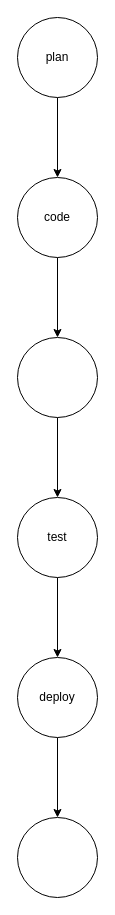
Image size: 115x915. Some labels were removed from this diagram. The centre of each missing label's shape, as x and y in pixels:
"build" goes at point 57,377.
"maintain" goes at point 57,857.
